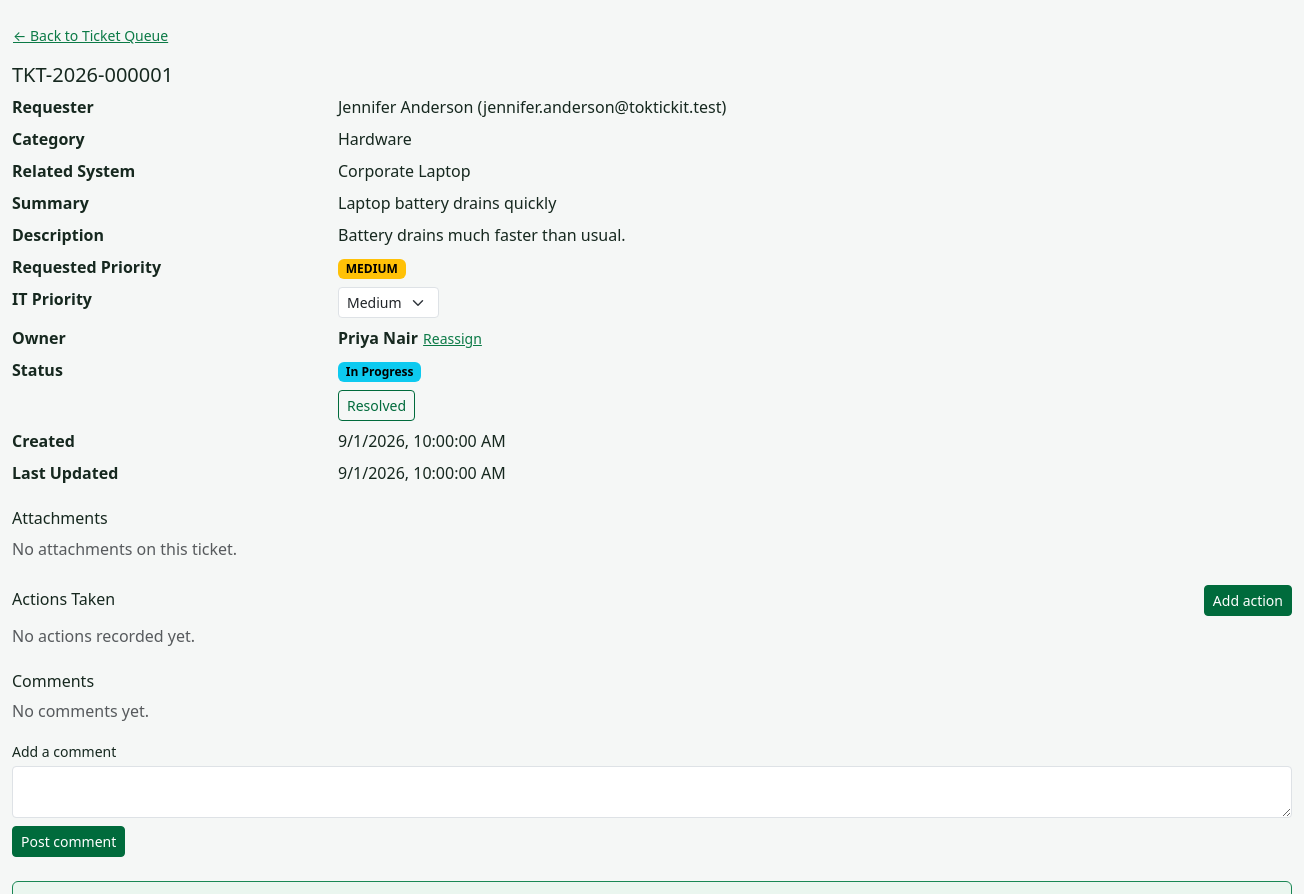
Test: TicketWorkflow: status buttons › UI-09: confirm step › RESOLVED asks for confirmation, sends nothing until Confirm, and then sends confirm:true
The image size is (1304, 894).
Expected: the heading "TKT-2026-000001" is shown, [12,61,173,88]
Click the button "Resolved" at x=376, y=406, box [338,390,415,421]
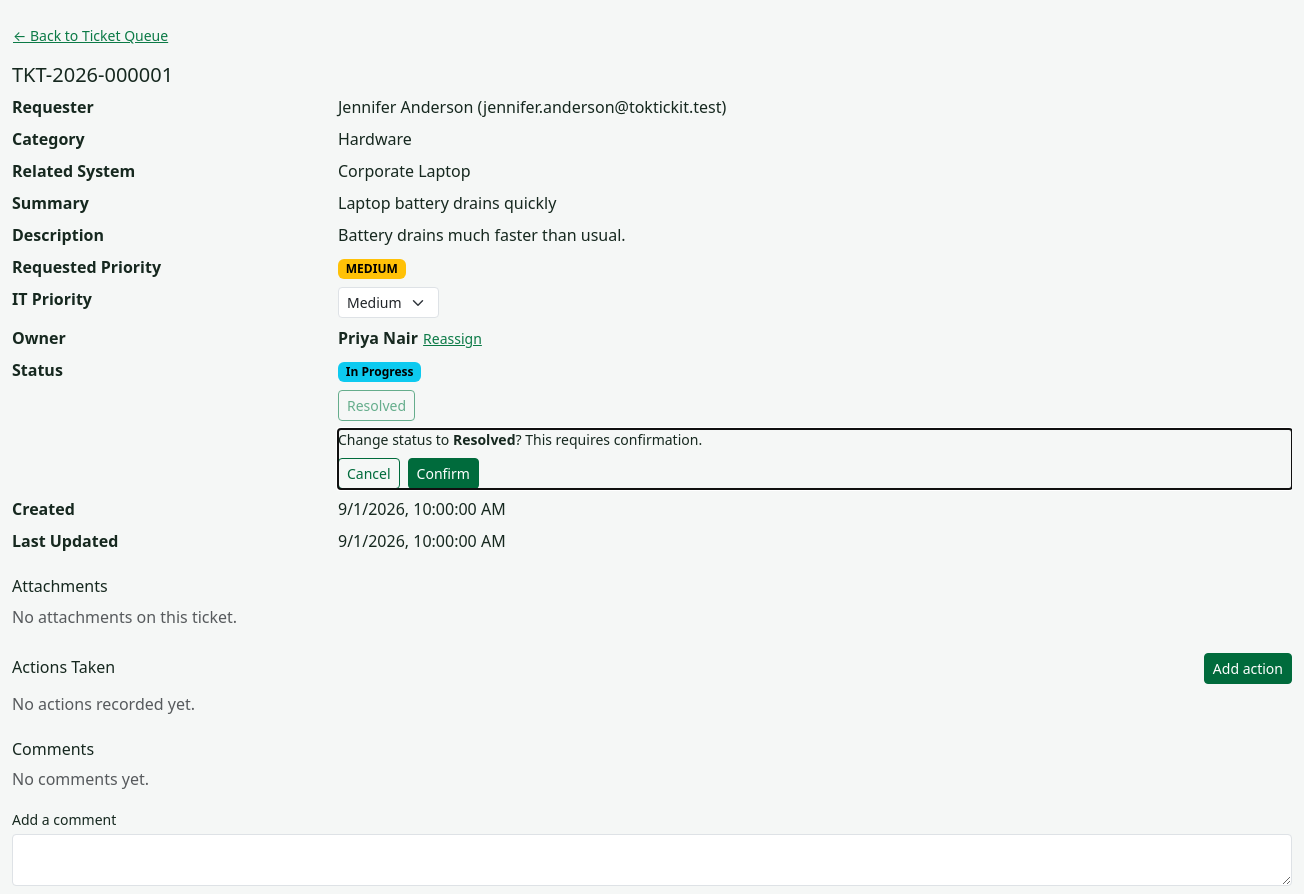
Expected: the text "Change status to Resolved? This requires confirmation." is shown, [338,430,702,449]
Click the button "Confirm" at x=443, y=474, box [408,458,479,489]
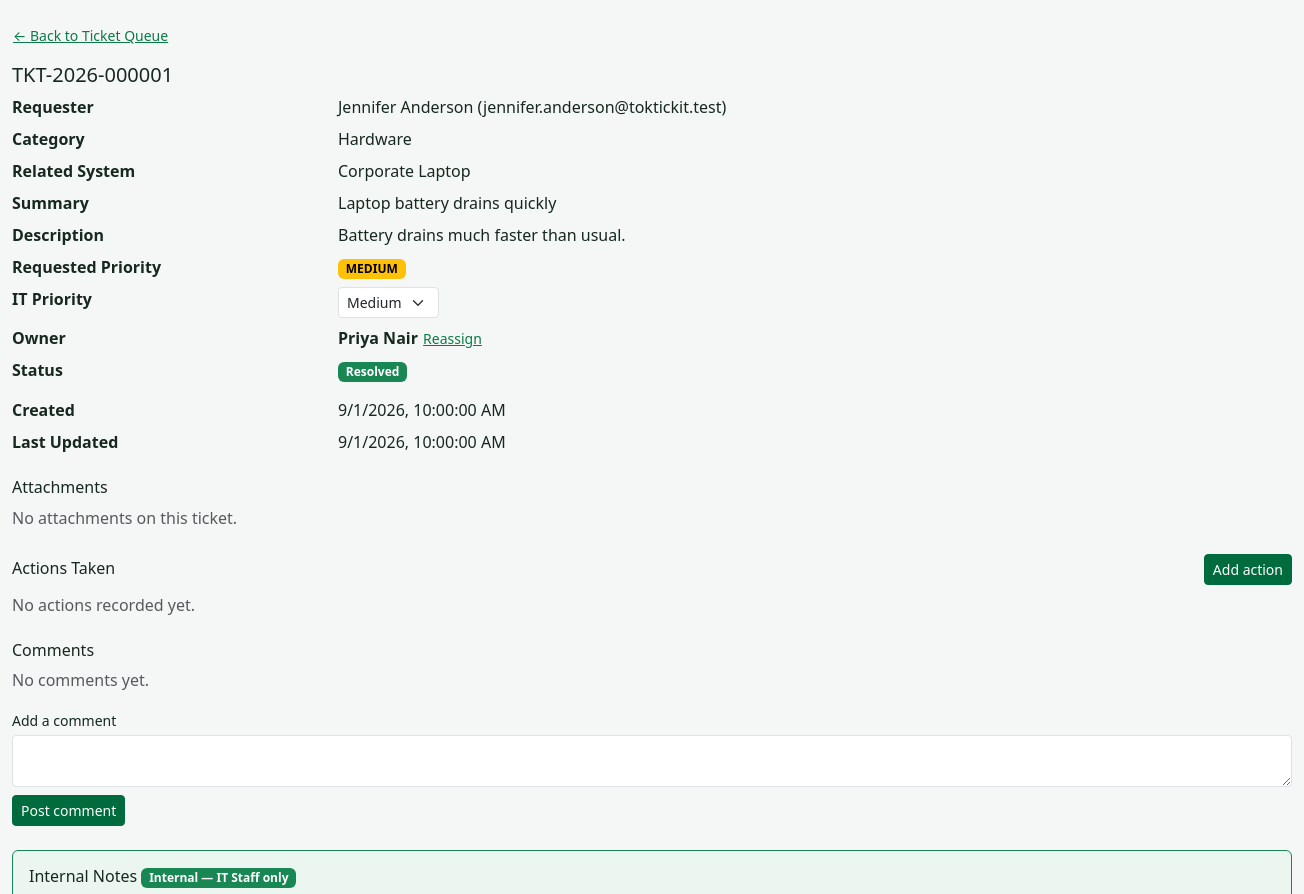
Expected: the text "requires confirmation" is gone
